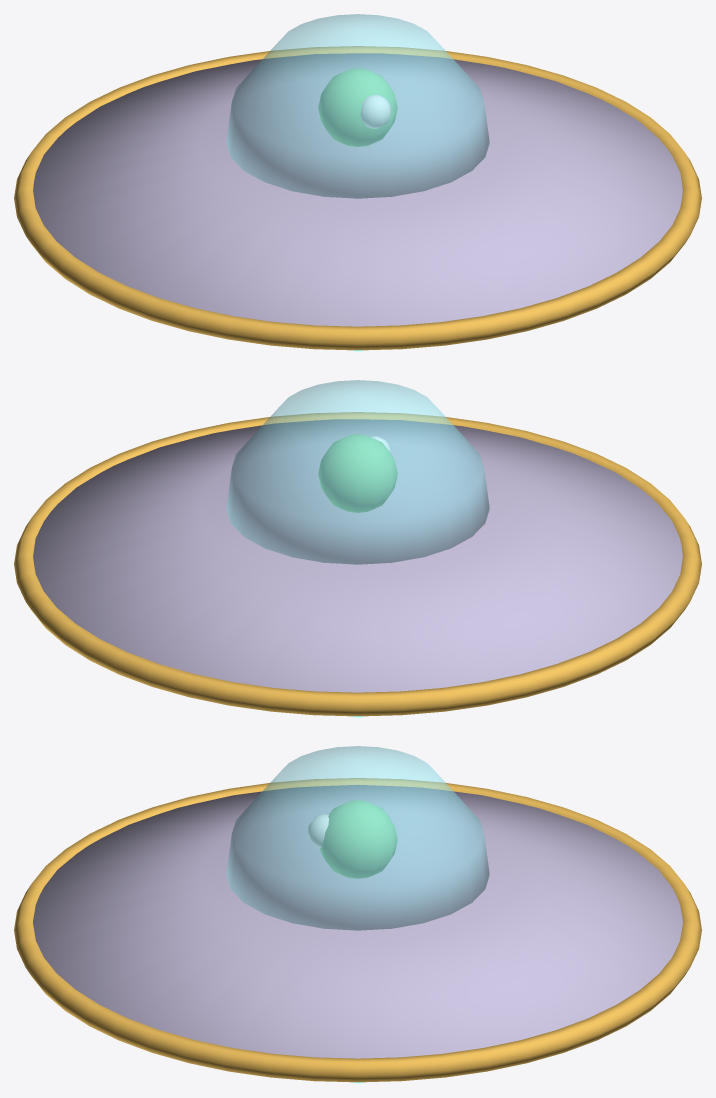
Rendered from ufo.glb.
3 views of the same model, one above another, from view 1: azimuth 30°, elevation 25°; view 2: azimuth 150°, elevation 25°; view 3: azimuth 270°, elevation 25° (orthographic).
Parts seen in each view (by area): view 1: ufo; view 2: ufo; view 3: ufo.
Boxes of the visible parts, x1,y1,x2,y2 form: ufo: [14, 14, 701, 351]; ufo: [14, 380, 701, 717]; ufo: [14, 746, 701, 1083].
Bounding box in the file's own units: 5.18 × 2.2 × 5.18.
